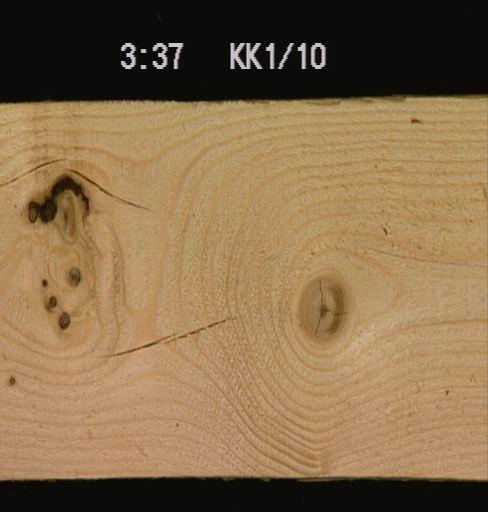dry_knot: (45, 293, 57, 309)
small_knot: (39, 275, 48, 287), (7, 373, 16, 385)
sound_knot: (295, 275, 347, 344), (67, 264, 80, 286), (57, 309, 71, 329)
split: (98, 313, 239, 357), (66, 165, 154, 210), (0, 155, 67, 187)
